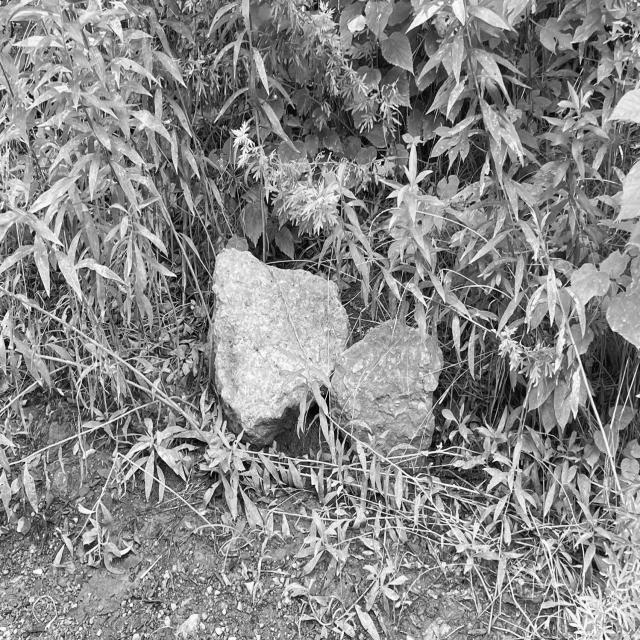Stone: (212, 248, 348, 446), (332, 320, 442, 450)
